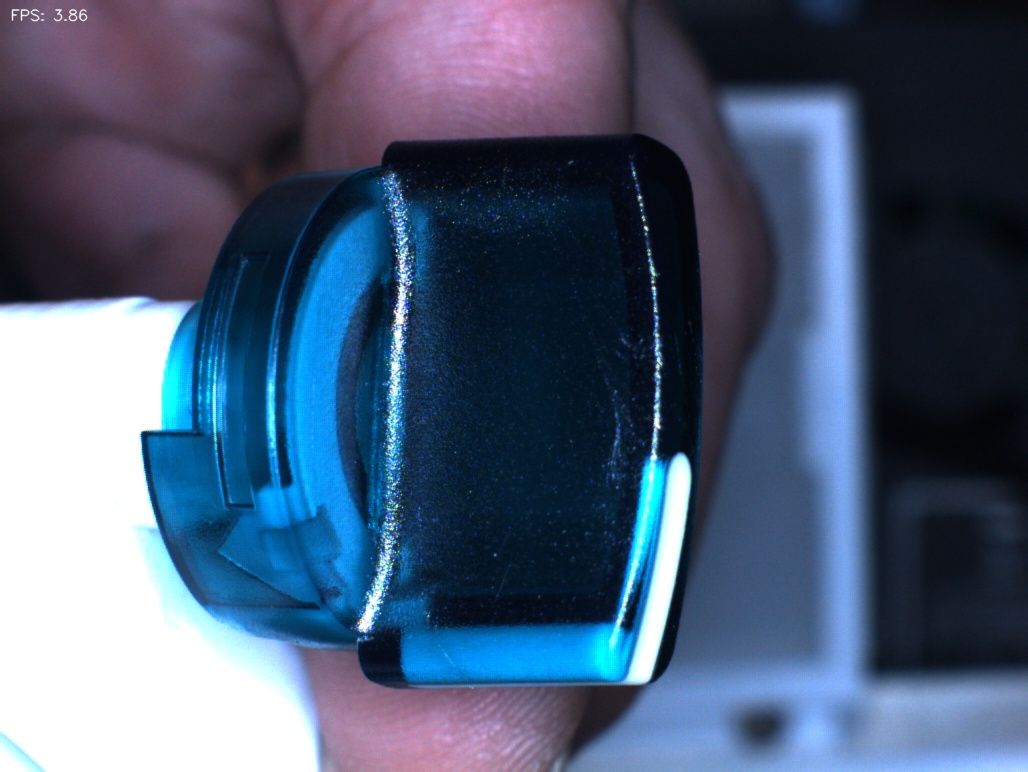Givrage: (575, 327, 680, 494)
